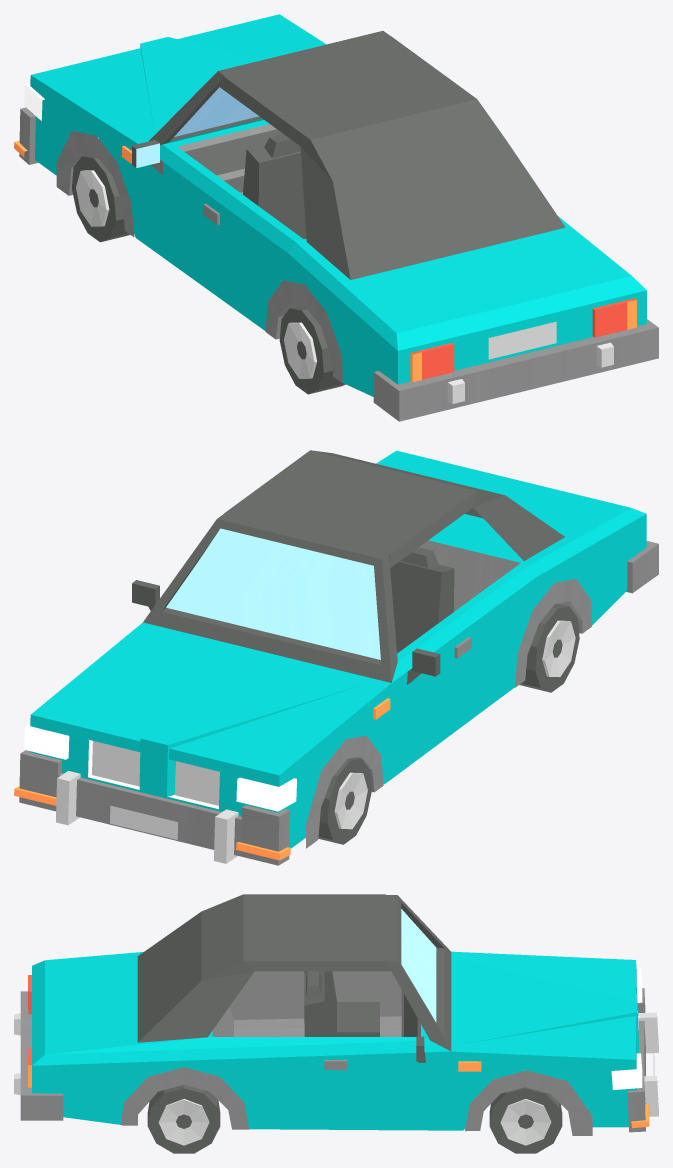
The model's file is transport_old.006.glb.
3 renders of one model, top to bottom at view 1: azimuth 30°, elevation 25°; view 2: azimuth 150°, elevation 25°; view 3: azimuth 270°, elevation 25°, orthographic. The views are drawn at different scales.
Parts seen in each view (by area): view 1: transport_old.006(Clone); view 2: transport_old.006(Clone); view 3: transport_old.006(Clone).
Part boxes in pixels (box(x1,y1,x2,y2)): transport_old.006(Clone): box(14, 14, 658, 421); transport_old.006(Clone): box(14, 450, 658, 865); transport_old.006(Clone): box(14, 894, 658, 1153).
Bounding box in the file's own units: 1.48 × 0.9878 × 3.3.
Materials: 1 (1 with a texture image).
